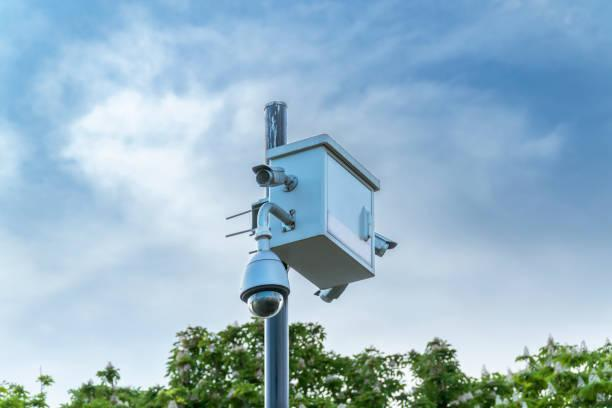camera: (228, 253, 299, 330), (248, 155, 302, 204), (368, 223, 400, 262)
